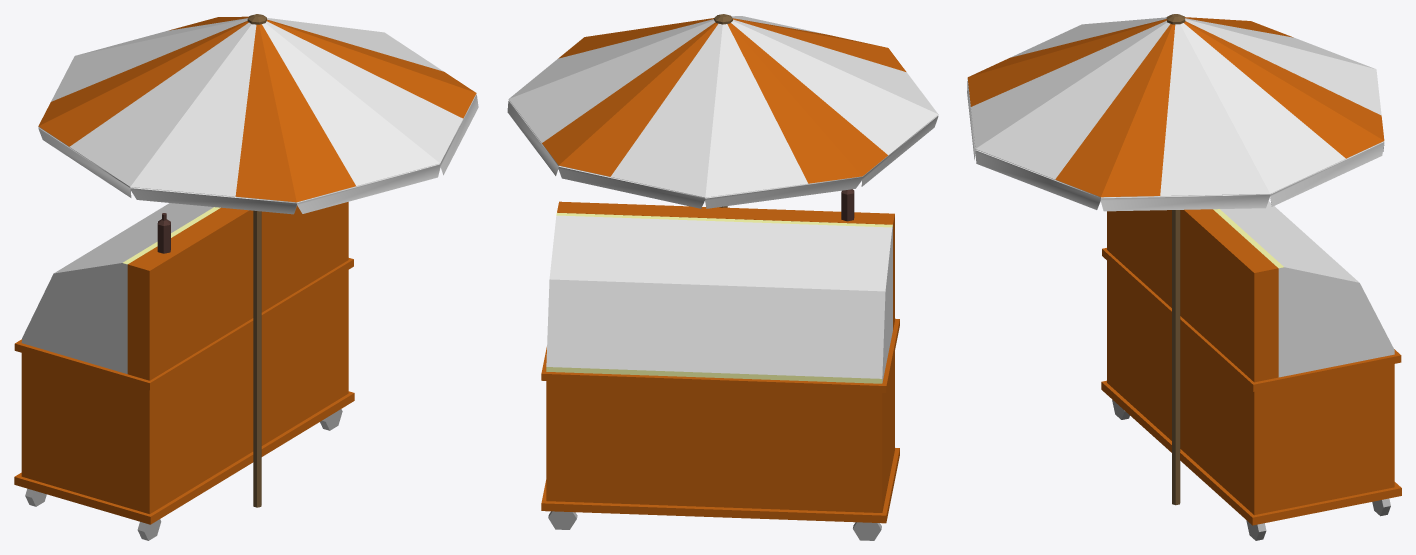
Rendered from Donuts Stand.fbx.
3 renders of one model, left to right at view 1: azimuth 30°, elevation 25°; view 2: azimuth 150°, elevation 25°; view 3: azimuth 270°, elevation 25°, orthographic. The views are drawn at different scales.
Parts seen in each view (by area): view 1: Donuts Stand.001; view 2: Donuts Stand.001; view 3: Donuts Stand.001.
Boxes of the visible parts, x1,y1,x2,y2 form: Donuts Stand.001: (14,14,478,540); Donuts Stand.001: (507,14,938,540); Donuts Stand.001: (967,14,1401,540).
Size of the model in its own units: 380 by 369 by 457.
